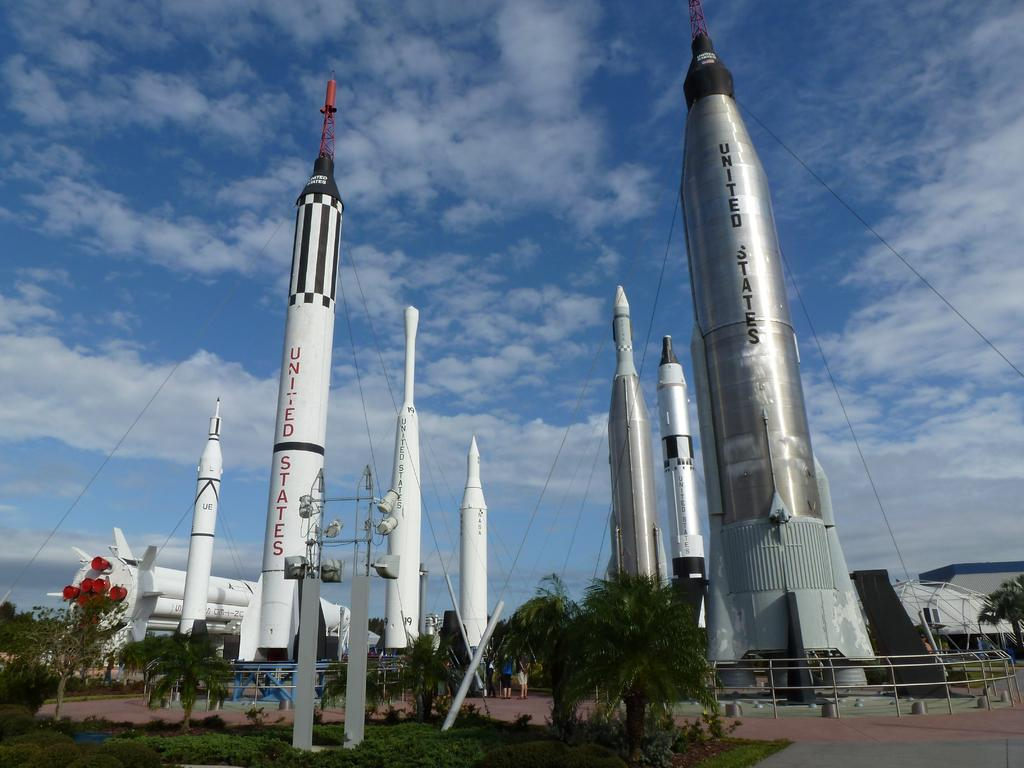Missile: (239, 77, 340, 696), (36, 521, 361, 652), (599, 284, 675, 635), (372, 296, 433, 666), (170, 399, 230, 657), (664, 351, 710, 643), (444, 431, 502, 657)
